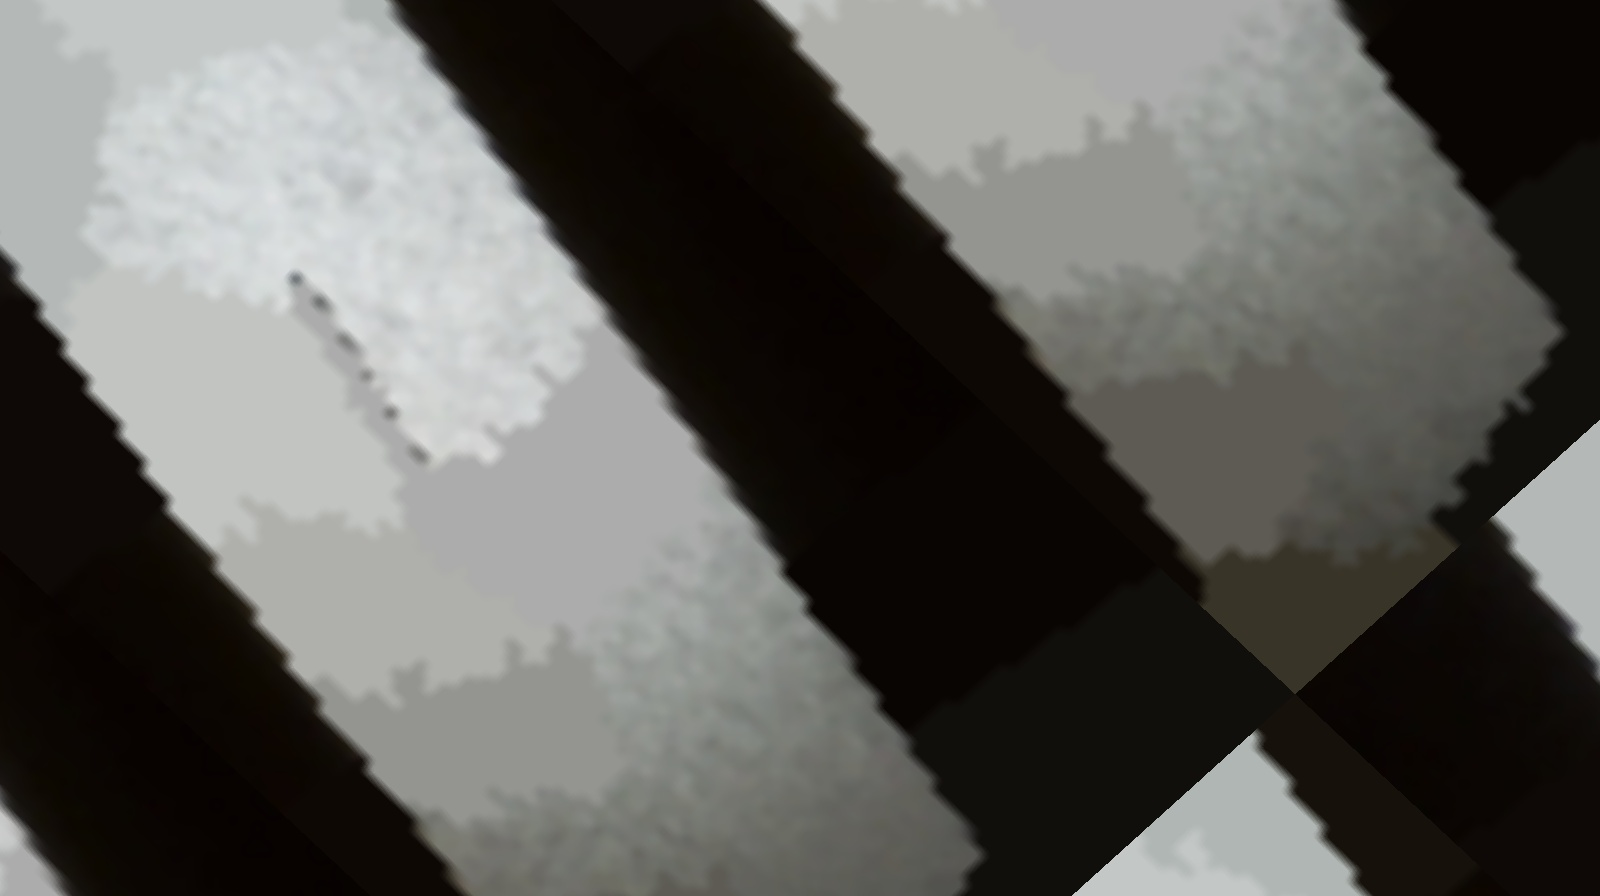S002: (199, 264, 543, 582)
